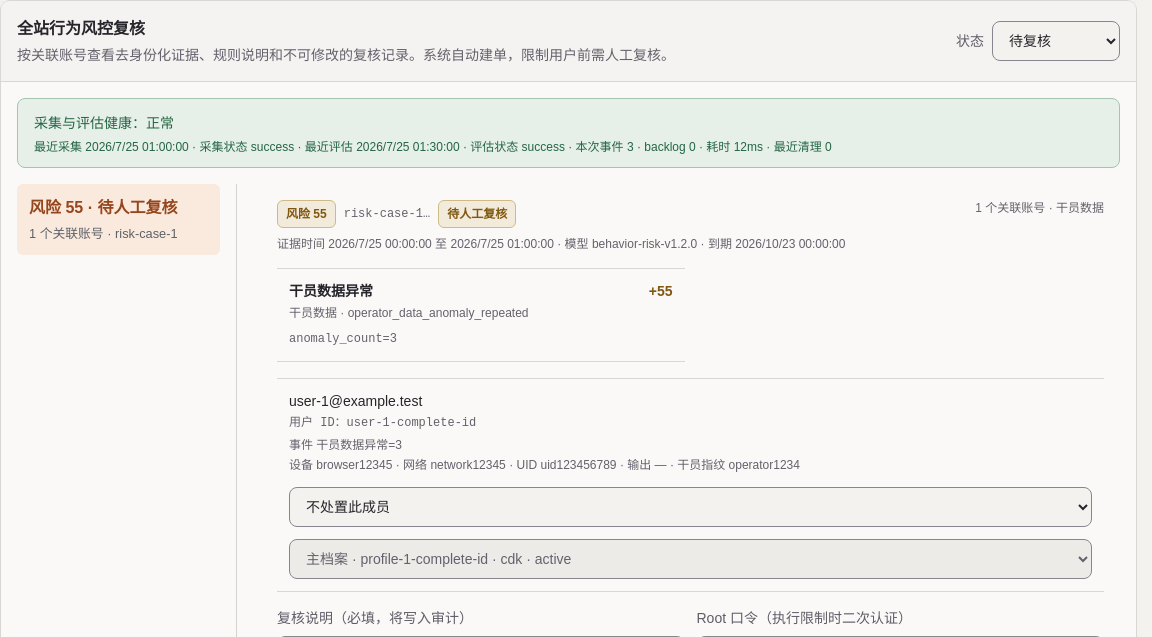
Scenario: BehaviorRiskPanel review form › clears stale cases when the current filter request fails and exposes retry
Expected: the text "user-1@example.test" is shown, 289,393 -> 422,409
Select "已处置" in the dropdown labelled "状态": (1056, 41) 992,21 -> 1120,61
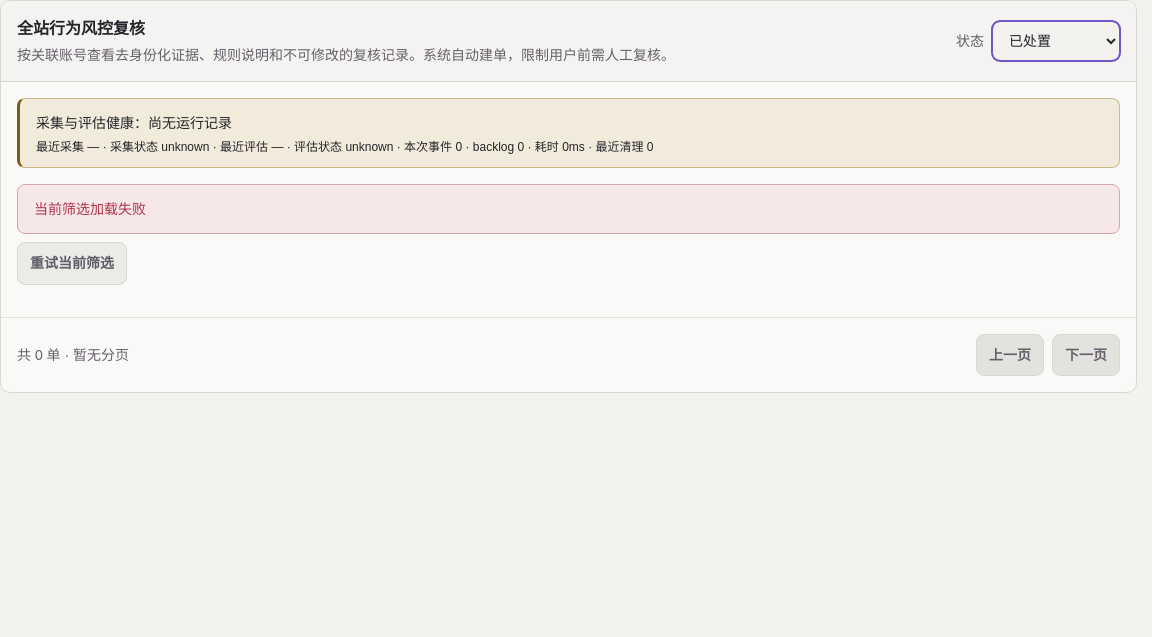
Expected: the message "当前筛选加载失败" is shown, 17,184 -> 1120,234
Expected: the text "user-1@example.test" is gone
Expected: the button "重试当前筛选" is shown, 17,242 -> 127,285
